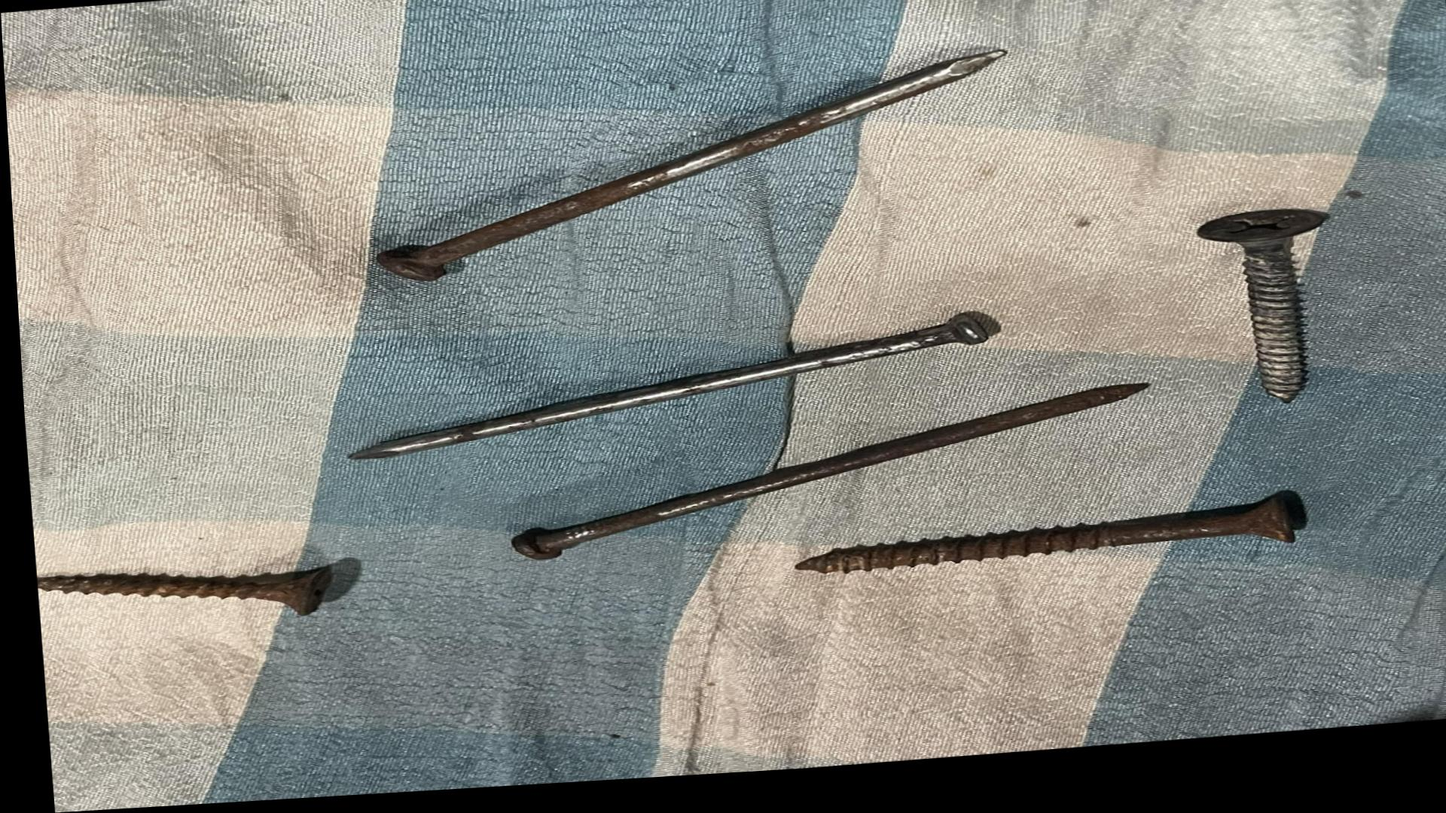nail: (316, 43, 1096, 308), (473, 385, 1161, 588), (264, 313, 1019, 483)
screw: (707, 507, 1350, 619), (1174, 193, 1367, 433), (28, 535, 401, 635)
